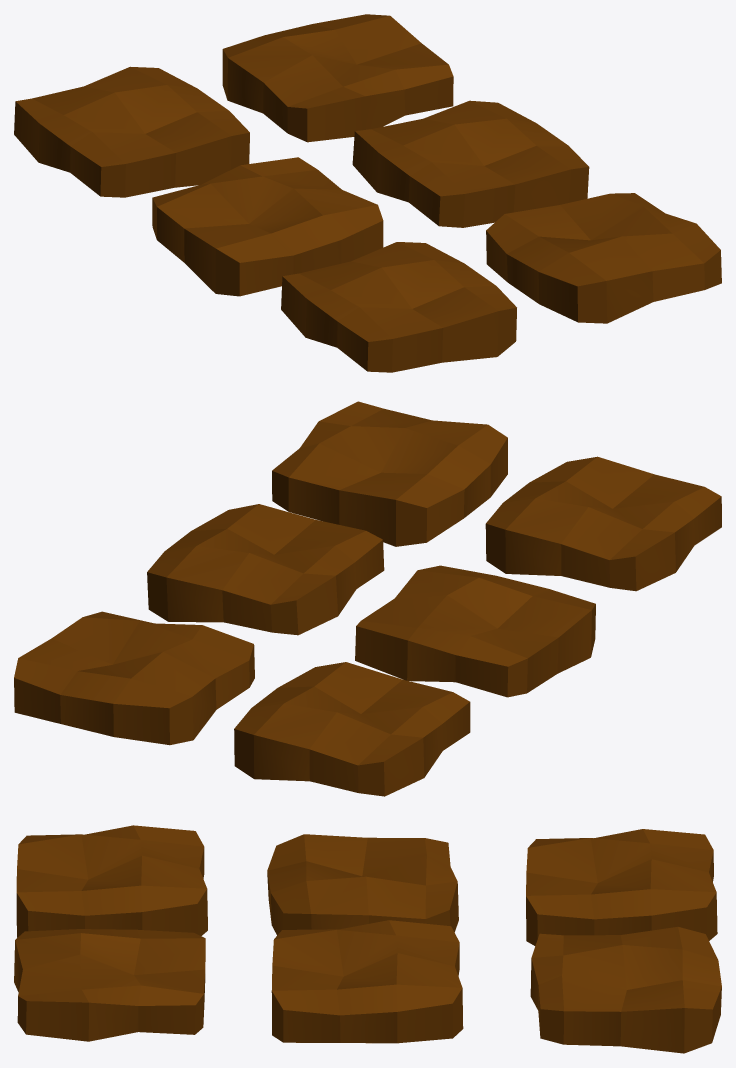
The model's file is ground.glb.
3 views of the same model, one above another, from view 1: azimuth 30°, elevation 25°; view 2: azimuth 150°, elevation 25°; view 3: azimuth 270°, elevation 25° (orthographic). The views are drawn at different scales.
Visible parts, largest first — view 1: ground6, ground5, ground4, ground2, ground1, ground3; view 2: ground5, ground1, ground2, ground6, ground4, ground3; view 3: ground3, ground1, ground5, ground6, ground2, ground4.
Part boxes in pixels (x1,y1,x2,y2): ground6: (281,242,516,372); ground5: (486,193,721,323); ground4: (152,157,383,296); ground2: (14,66,249,197); ground1: (222,14,453,142); ground3: (352,100,589,227); ground5: (272,401,507,546); ground1: (14,611,254,745); ground2: (234,662,470,796); ground6: (485,456,721,591); ground4: (355,565,595,697); ground3: (147,504,384,635); ground3: (271,920,463,1043); ground1: (530,927,721,1053); ground5: (14,929,205,1041); ground6: (16,825,207,937); ground2: (526,829,717,945); ground4: (267,834,458,935).
Size of the model in its own units: 5.8 by 0.9974 by 9.37.
